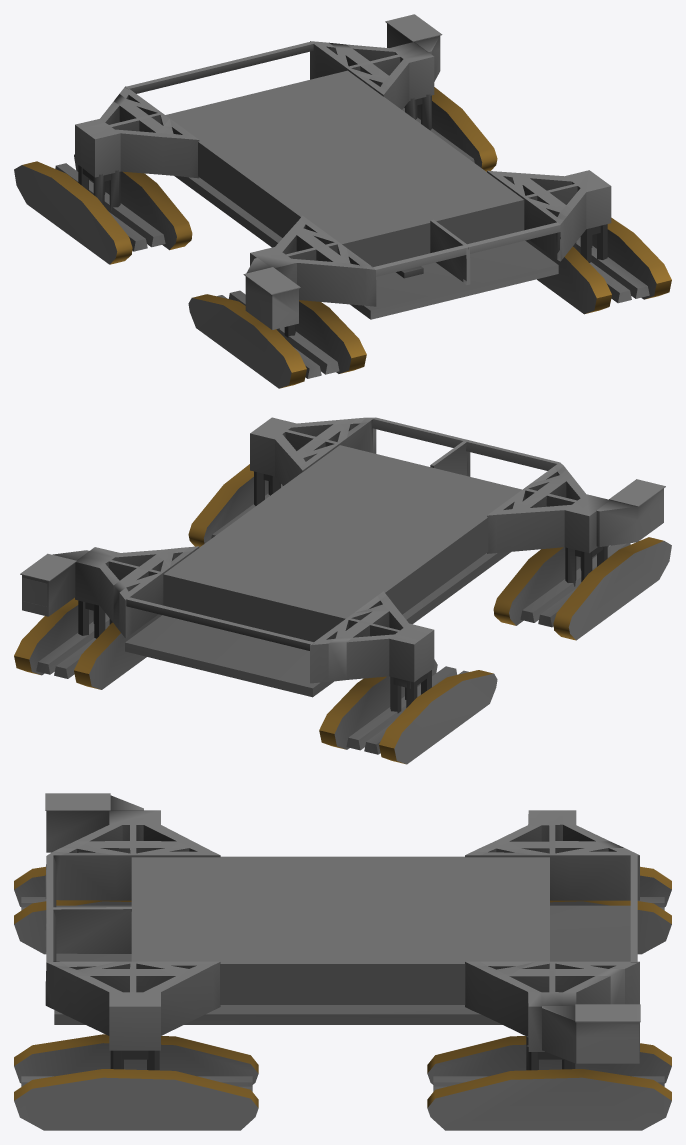
The model's file is vehicles-work-vehicles-rocket-crawler_v1.fbx.
The picture shows the model from 3 angles, top to bottom: view 1: azimuth 30°, elevation 25°; view 2: azimuth 150°, elevation 25°; view 3: azimuth 270°, elevation 25°; orthographic projection. The views are drawn at different scales.
Parts seen in each view (by area): view 1: Rocket Crawler; view 2: Rocket Crawler; view 3: Rocket Crawler.
Boxes of the visible parts, x1,y1,x2,y2 form: Rocket Crawler: (14, 14, 671, 388); Rocket Crawler: (14, 417, 671, 764); Rocket Crawler: (14, 793, 671, 1130).
Size of the model in its own units: 32.81 by 7.61 by 40.
